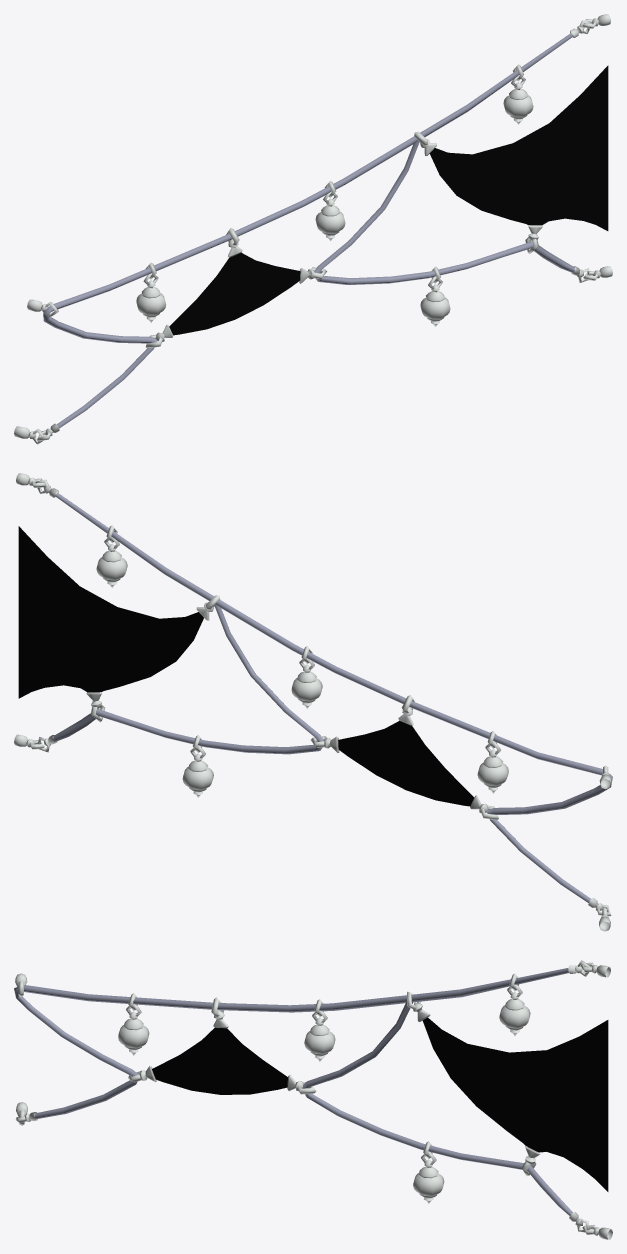
The picture shows the model from 3 angles, top to bottom: view 1: azimuth 30°, elevation 25°; view 2: azimuth 150°, elevation 25°; view 3: azimuth 330°, elevation 25°; orthographic projection. The views are drawn at different scales.
Parts seen in each view (by area): view 1: G:\FFXIV-MapTools\exports\m5f1\bg\ex4\02_mid_m5\fld\m5f1\bgp (×4); view 2: G:\FFXIV-MapTools\exports\m5f1\bg\ex4\02_mid_m5\fld\m5f1\bgp (×4); view 3: G:\FFXIV-MapTools\exports\m5f1\bg\ex4\02_mid_m5\fld\m5f1\bgp (×4).
Boxes of the visible parts, <box> form: G:\FFXIV-MapTools\exports\m5f1\bg\ex4\02_mid_m5\fld\m5f1\bgp (×4): <box>14,14,612,444</box>; G:\FFXIV-MapTools\exports\m5f1\bg\ex4\02_mid_m5\fld\m5f1\bgp (×4): <box>14,473,612,931</box>; G:\FFXIV-MapTools\exports\m5f1\bg\ex4\02_mid_m5\fld\m5f1\bgp (×4): <box>14,960,612,1239</box>.
Size of the model in its own units: 15.54 by 7.48 by 1.05.
